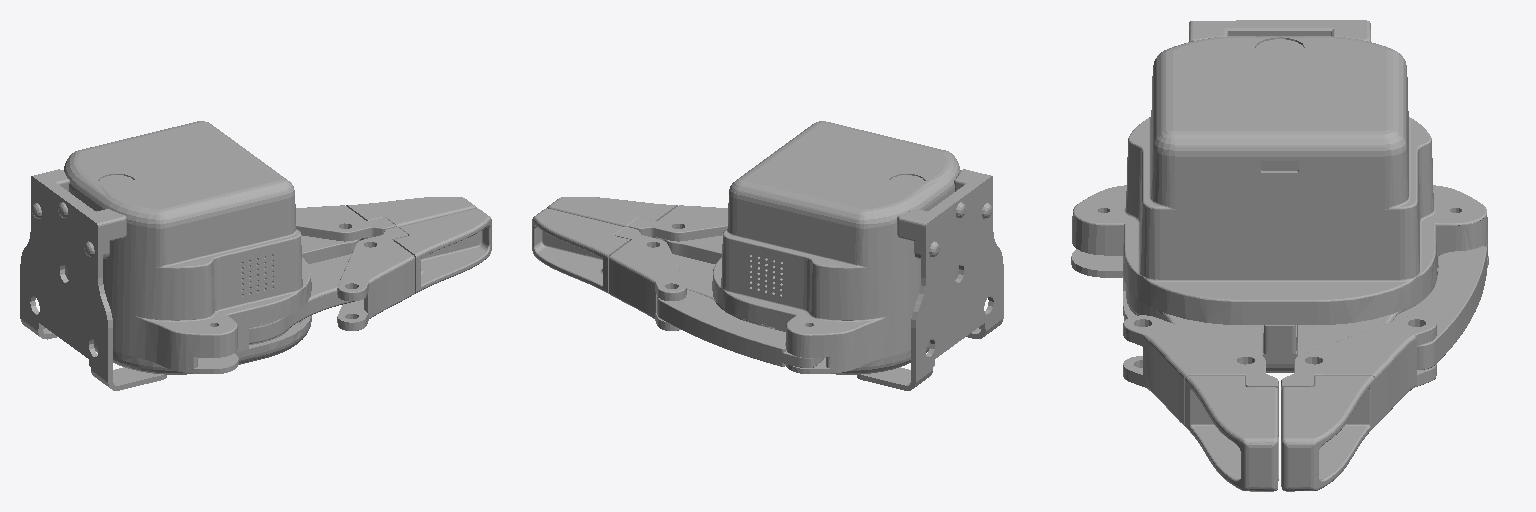
URDF robot description (mygripper_f100):
<?xml version="1.0" encoding="utf-8"?>
<!-- This URDF was automatically created by SolidWorks to URDF Exporter! Originally created by Stephen Brawner (brawner@gmail.com) 
     Commit Version: 1.6.0-4-g7f85cfe  Build Version: 1.6.7995.38578
     For more information, please see http://wiki.ros.org/sw_urdf_exporter -->
<robot
  name="mygripper_f100">
  <link
    name="f100_base_link">
    <inertial>
      <origin
        xyz="0.0439 0.001507 0.014638"
        rpy="0 0 0" />
      <mass
        value="0.251" />
      <inertia
        ixx="0.00024"
        ixy="2E-05"
        ixz="0.000144"
        iyy="0.000729"
        iyz="4.678E-06"
        izz="0.00071" />
    </inertial>
    <visual>
      <origin
        xyz="0 0 0"
        rpy="0 0 0" />
      <geometry>
        <mesh
          filename="package://mygripper_f100_description/meshes/f100_base_link.STL" />
      </geometry>
      <material
        name="">
        <color
          rgba="0.69804 0.69804 0.69804 1" />
      </material>
    </visual>
    <collision>
      <origin
        xyz="0 0 0"
        rpy="0 0 0" />
      <geometry>
        <mesh
          filename="package://mygripper_f100_description/meshes/f100_base_link.STL" />
      </geometry>
    </collision>
  </link>
  <link
    name="joint2_left_link">
    <inertial>
      <origin
        xyz="0.016477 -0.000609 5.1E-05"
        rpy="0 0 0" />
      <mass
        value="0.015" />
      <inertia
        ixx="2E-06"
        ixy="-9.61E-07"
        ixz="0"
        iyy="1.1E-05"
        iyz="0"
        izz="1.26E-05" />
    </inertial>
    <visual>
      <origin
        xyz="0 0 0"
        rpy="0 0 0" />
      <geometry>
        <mesh
          filename="package://mygripper_f100_description/meshes/J2_L_Link.STL" />
      </geometry>
      <material
        name="">
        <color
          rgba="0.69804 0.69804 0.69804 1" />
      </material>
    </visual>
    <collision>
      <origin
        xyz="0 0 0"
        rpy="0 0 0" />
      <geometry>
        <mesh
          filename="package://mygripper_f100_description/meshes/J2_L_Link.STL" />
      </geometry>
    </collision>
  </link>
  <joint
    name="joint2_left_joint"
    type="revolute">
    <origin
      xyz="0.056064 0.017111 0"
      rpy="0 0 0.00036257" />
    <parent
      link="f100_base_link" />
    <child
      link="joint2_left_link" />
    <axis
      xyz="0 0 -1" />
    <limit
      lower="-1.012"
      upper="0"
      effort="0"
      velocity="0" />
  </joint>
  <link
    name="joint3_left_link">
    <inertial>
      <origin
        xyz="0.004031 0.00831 -0.000115"
        rpy="0 0 0" />
      <mass
        value="0.017" />
      <inertia
        ixx="3.579E-06"
        ixy="-2E-06"
        ixz="2E-08"
        iyy="6.6E-06"
        iyz="-2.3E-08"
        izz="9.273E-06" />
    </inertial>
    <visual>
      <origin
        xyz="0 0 0"
        rpy="0 0 0" />
      <geometry>
        <mesh
          filename="package://mygripper_f100_description/meshes/J3_L_Link.STL" />
      </geometry>
      <material
        name="">
        <color
          rgba="0.69804 0.69804 0.69804 1" />
      </material>
    </visual>
    <collision>
      <origin
        xyz="0 0 0"
        rpy="0 0 0" />
      <geometry>
        <mesh
          filename="package://mygripper_f100_description/meshes/J3_L_Link.STL" />
      </geometry>
    </collision>
  </link>
  <joint
    name="joint3_left_joint"
    type="revolute">
    <origin
      xyz="0.059996 -0.0097778 -0.0005"
      rpy="0 0 0" />
    <parent
      link="joint2_left_link" />
    <child
      link="joint3_left_link" />
    <axis
      xyz="0 0 -1" />
    <limit
      lower="-1.012"
      upper="1.012"
      effort="0"
      velocity="0" />
    <mimic
      joint="joint2_left_joint"
      multiplier="-1"
      offset="0" />
  </joint>
  <link
    name="joint1_left_link">
    <inertial>
      <origin
        xyz="0.032595 -0.003043 0"
        rpy="0 0 0" />
      <mass
        value="0.006" />
      <inertia
        ixx="2.84E-07"
        ixy="-1.059E-06"
        ixz="0"
        iyy="8.28E-06"
        iyz="0"
        izz="8.52E-06" />
    </inertial>
    <visual>
      <origin
        xyz="0 0 0"
        rpy="0 0 0" />
      <geometry>
        <mesh
          filename="package://mygripper_f100_description/meshes/J1_L_Link.STL" />
      </geometry>
      <material
        name="">
        <color
          rgba="0.69804 0.69804 0.69804 1" />
      </material>
    </visual>
    <collision>
      <origin
        xyz="0 0 0"
        rpy="0 0 0" />
      <geometry>
        <mesh
          filename="package://mygripper_f100_description/meshes/J1_L_Link.STL" />
      </geometry>
    </collision>
  </link>
  <joint
    name="joint1_left_joint"
    type="revolute">
    <origin
      xyz="0.033748 0.043203 0"
      rpy="0 0 0.00036257" />
    <parent
      link="f100_base_link" />
    <child
      link="joint1_left_link" />
    <axis
      xyz="0 0 -1" />
    <limit
      lower="-1.012"
      upper="1.012"
      effort="0"
      velocity="0" />
    <mimic
      joint="joint2_left_joint"
      multiplier="1"
      offset="0" />
  </joint>
  <link
    name="joint2_right_link">
    <inertial>
      <origin
        xyz="0.019829 0.000952 -0.000143"
        rpy="0 0 0" />
      <mass
        value="0.013" />
      <inertia
        ixx="1.239E-06"
        ixy="9.88E-07"
        ixz="0"
        iyy="1.1158E-05"
        iyz="0"
        izz="1.2285E-05" />
    </inertial>
    <visual>
      <origin
        xyz="0 0 0"
        rpy="0 0 0" />
      <geometry>
        <mesh
          filename="package://mygripper_f100_description/meshes/J2_R_Link.STL" />
      </geometry>
      <material
        name="">
        <color
          rgba="0.69804 0.69804 0.69804 1" />
      </material>
    </visual>
    <collision>
      <origin
        xyz="0 0 0"
        rpy="0 0 0" />
      <geometry>
        <mesh
          filename="package://mygripper_f100_description/meshes/J2_R_Link.STL" />
      </geometry>
    </collision>
  </link>
  <joint
    name="joint2_right_joint"
    type="revolute">
    <origin
      xyz="0.056064 -0.019509 0"
      rpy="0 0 0" />
    <parent
      link="f100_base_link" />
    <child
      link="joint2_right_link" />
    <axis
      xyz="0 0 -1" />
    <limit
      lower="-1.012"
      upper="1.012"
      effort="0"
      velocity="0" />
    <mimic
      joint="joint2_left_joint"
      multiplier="-1"
      offset="0" />
  </joint>
  <link
    name="joint3_right_link">
    <inertial>
      <origin
        xyz="0.004379 -0.008394 -7.5E-05"
        rpy="0 0 0" />
      <mass
        value="0.018" />
      <inertia
        ixx="3.659E-06"
        ixy="1.93E-06"
        ixz="1.1E-08"
        iyy="6.726E-06"
        iyz="1.2E-08"
        izz="9.479E-06" />
    </inertial>
    <visual>
      <origin
        xyz="0 0 0"
        rpy="0 0 0" />
      <geometry>
        <mesh
          filename="package://mygripper_f100_description/meshes/J3_R_Link.STL" />
      </geometry>
      <material
        name="">
        <color
          rgba="0.69804 0.69804 0.69804 1" />
      </material>
    </visual>
    <collision>
      <origin
        xyz="0 0 0"
        rpy="0 0 0" />
      <geometry>
        <mesh
          filename="package://mygripper_f100_description/meshes/J3_R_Link.STL" />
      </geometry>
    </collision>
  </link>
  <joint
    name="joint3_right_joint"
    type="revolute">
    <origin
      xyz="0.06 0.009756 0"
      rpy="0 0 0" />
    <parent
      link="joint2_right_link" />
    <child
      link="joint3_right_link" />
    <axis
      xyz="0 0 -1" />
    <limit
      lower="-1.012"
      upper="1.012"
      effort="0"
      velocity="0" />
    <mimic
      joint="joint2_left_joint"
      multiplier="1"
      offset="0" />
  </joint>
  <link
    name="joint1_right_link">
    <inertial>
      <origin
        xyz="0.032592 0.003077 5E-05"
        rpy="0 0 0" />
      <mass
        value="0.006" />
      <inertia
        ixx="2.87E-07"
        ixy="1.067E-06"
        ixz="1E-08"
        iyy="8.278E-06"
        iyz="1E-09"
        izz="8.52E-06" />
    </inertial>
    <visual>
      <origin
        xyz="0 0 0"
        rpy="0 0 0" />
      <geometry>
        <mesh
          filename="package://mygripper_f100_description/meshes/SL_R_Link.STL" />
      </geometry>
      <material
        name="">
        <color
          rgba="0.69804 0.69804 0.69804 1" />
      </material>
    </visual>
    <collision>
      <origin
        xyz="0 0 0"
        rpy="0 0 0" />
      <geometry>
        <mesh
          filename="package://mygripper_f100_description/meshes/SL_R_Link.STL" />
      </geometry>
    </collision>
  </link>
  <joint
    name="joint1_right_joint"
    type="revolute">
    <origin
      xyz="0.033748 -0.045581 0"
      rpy="0 0 0" />
    <parent
      link="f100_base_link" />
    <child
      link="joint1_right_link" />
    <axis
      xyz="0 0 -1" />
    <limit
      lower="-1.012"
      upper="1.012"
      effort="0"
      velocity="0" />
    <mimic
      joint="joint2_left_joint"
      multiplier="-1"
      offset="0" />
  </joint>
</robot>

--- What the picture shows (computed from the rendered views, not written in the file) ---
3 views of the same robot in one strip: view 1: azimuth 30°, elevation 25°; view 2: azimuth 150°, elevation 25°; view 3: azimuth 270°, elevation 25° (orthographic).
Robot: mygripper_f100 — 7 links, 6 joints (6 revolute); root link f100_base_link; default pose: every joint at zero.
Links seen in each view (by area): view 1: f100_base_link, joint3_right_link, joint3_left_link, joint2_right_link, joint2_left_link; view 2: f100_base_link, joint3_left_link, joint1_left_link, joint3_right_link, joint2_left_link, joint2_right_link; view 3: f100_base_link, joint3_right_link, joint3_left_link, joint1_left_link, joint2_right_link, joint2_left_link.
Link boxes in pixels (x1=…): f100_base_link: x1=20, y1=121, x2=311, y2=390; joint3_right_link: x1=337, y1=208, x2=491, y2=330; joint3_left_link: x1=296, y1=197, x2=476, y2=241; joint2_right_link: x1=249, y1=254, x2=354, y2=344; joint2_left_link: x1=301, y1=235, x2=359, y2=263; f100_base_link: x1=712, y1=121, x2=1003, y2=390; joint3_left_link: x1=532, y1=208, x2=686, y2=330; joint1_left_link: x1=657, y1=290, x2=823, y2=367; joint3_right_link: x1=547, y1=197, x2=727, y2=241; joint2_left_link: x1=672, y1=254, x2=774, y2=328; joint2_right_link: x1=664, y1=235, x2=722, y2=263; f100_base_link: x1=1071, y1=20, x2=1488, y2=372; joint3_right_link: x1=1123, y1=315, x2=1278, y2=491; joint3_left_link: x1=1281, y1=315, x2=1436, y2=491; joint1_left_link: x1=1392, y1=244, x2=1487, y2=369; joint2_right_link: x1=1126, y1=285, x2=1262, y2=356; joint2_left_link: x1=1297, y1=285, x2=1433, y2=356.
Bounding box of the posed robot: 0.1657 × 0.1054 × 0.063 m (x, y, z).
6 mesh visuals loaded from 7 distinct referenced files (6 binary STL); not drawn: 1 (reference not matched to a file when rendering).
